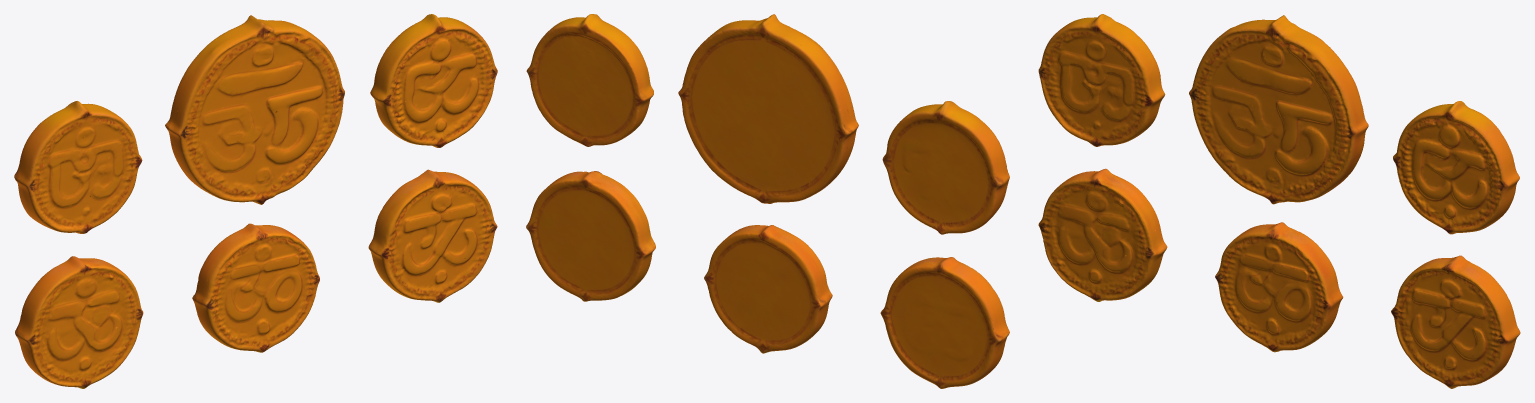
The model's file is glyphs.glb.
3 renders of one model, left to right at view 1: azimuth 30°, elevation 25°; view 2: azimuth 150°, elevation 25°; view 3: azimuth 330°, elevation 25°, orthographic.
Size of the model in its own units: 2 by 1.34 by 0.1101.
Materials: 1 (1 with a texture image).
